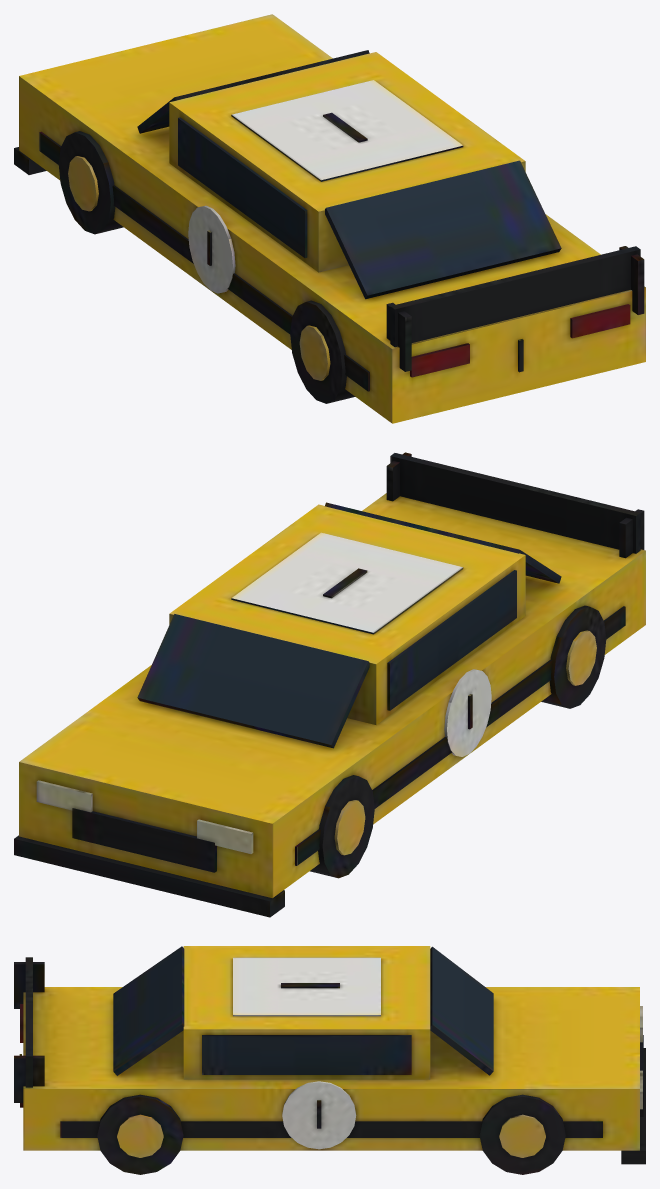
Rendered from stock_car_amarillo.glb.
The picture shows the model from 3 angles, top to bottom: view 1: azimuth 30°, elevation 25°; view 2: azimuth 150°, elevation 25°; view 3: azimuth 270°, elevation 25°; orthographic projection. The views are drawn at different scales.
Visible parts, largest first — view 1: stock_car_amarillo; view 2: stock_car_amarillo; view 3: stock_car_amarillo.
Part boxes in pixels (left/top/right/bottom): stock_car_amarillo: left=14, top=14, right=645, bottom=423; stock_car_amarillo: left=14, top=452, right=645, bottom=917; stock_car_amarillo: left=14, top=946, right=645, bottom=1174.
Size of the model in its own units: 2.08 by 1.23 by 5.12.
1 material, 1 textured.
